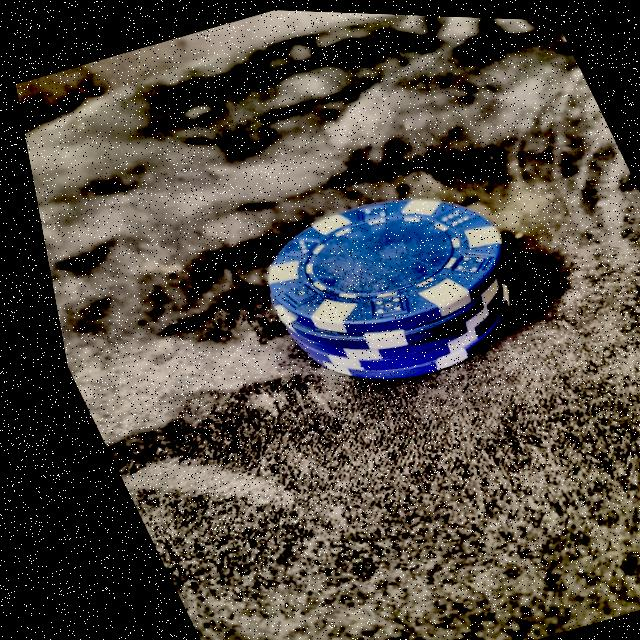Chip: (202, 146, 573, 431)
